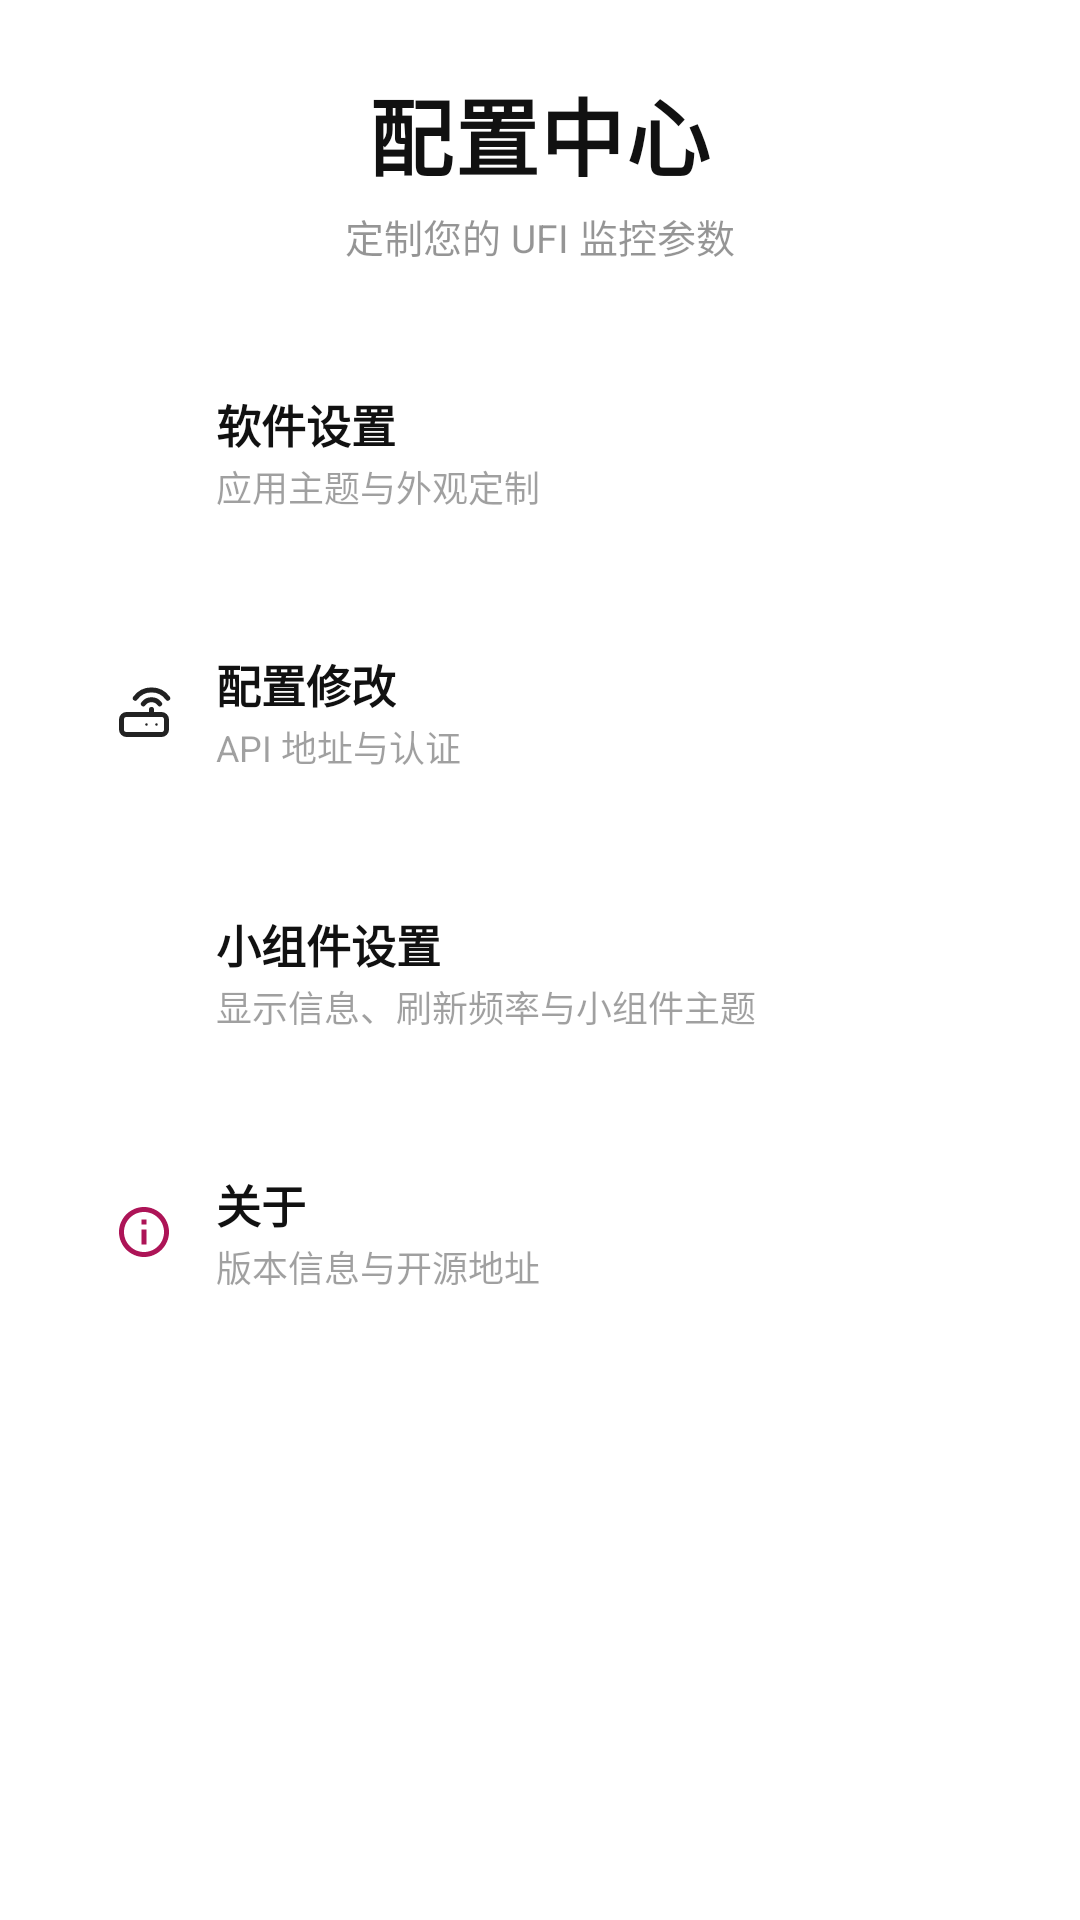

Icon bounding boxes for this 1080*1920 phone screenshot, format (x1, y1, x2, y2):
info: (119, 1207, 169, 1257)
router: (119, 687, 171, 737)
